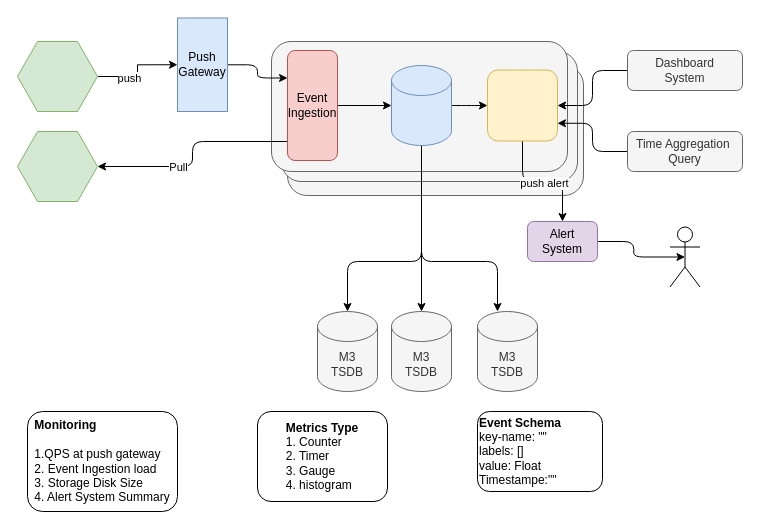
Image size: 760x529. Some labels were removed from this diagram. Each missing label, with the centre of its shape:
Metrics Http Service: (x=522, y=105)
Service A Agent Daemon: (x=57, y=76)
Service B Expose Endpoint: (x=57, y=166)
Storage Gateway coordinators: (x=421, y=105)
User: (x=684, y=256)
